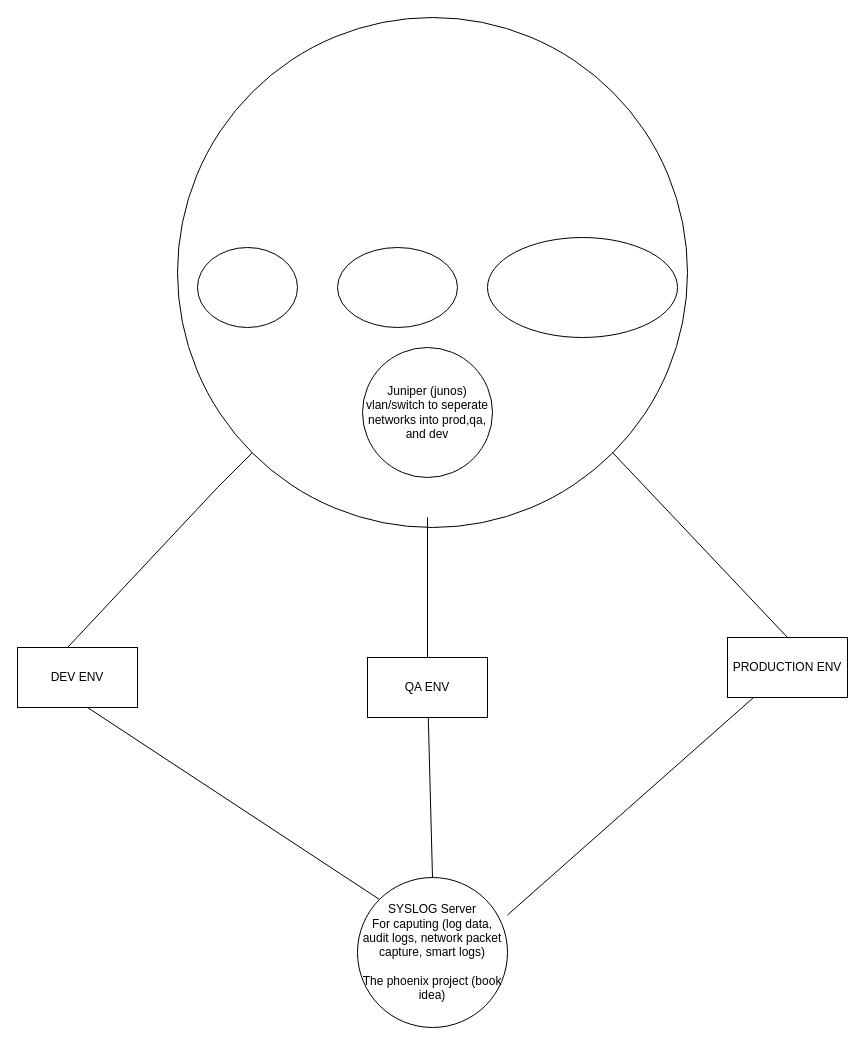
The diagram is 865 pixels wide and 1045 high, and some of its shapes have lost their labels. Here are the shapes that lost their labels. From the top down, the centre of each, then its label:
At point (247, 287): "REFRESHED Ansible Node".
At point (397, 287): "Satellite/patch management node".
At point (582, 287): "AD/LDAP/Authentication node".
